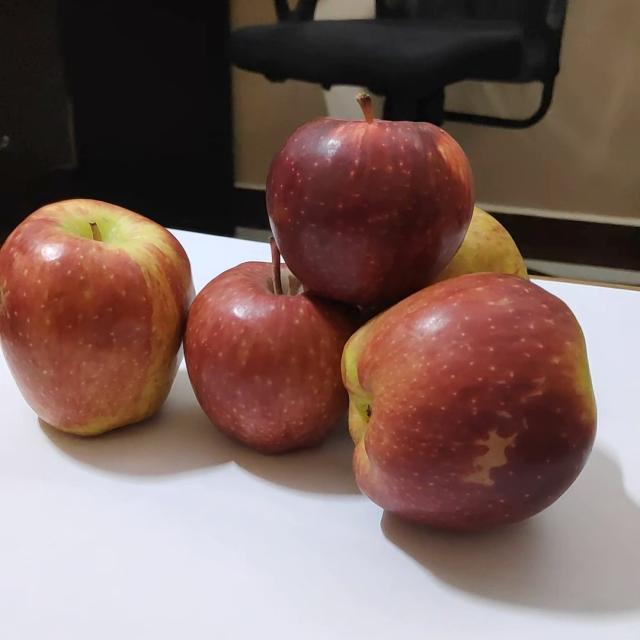apple: (330, 268, 600, 532), (255, 84, 480, 316), (0, 196, 194, 436), (182, 238, 361, 460), (403, 190, 538, 298)
